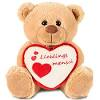teddy: (4, 2, 96, 99)
